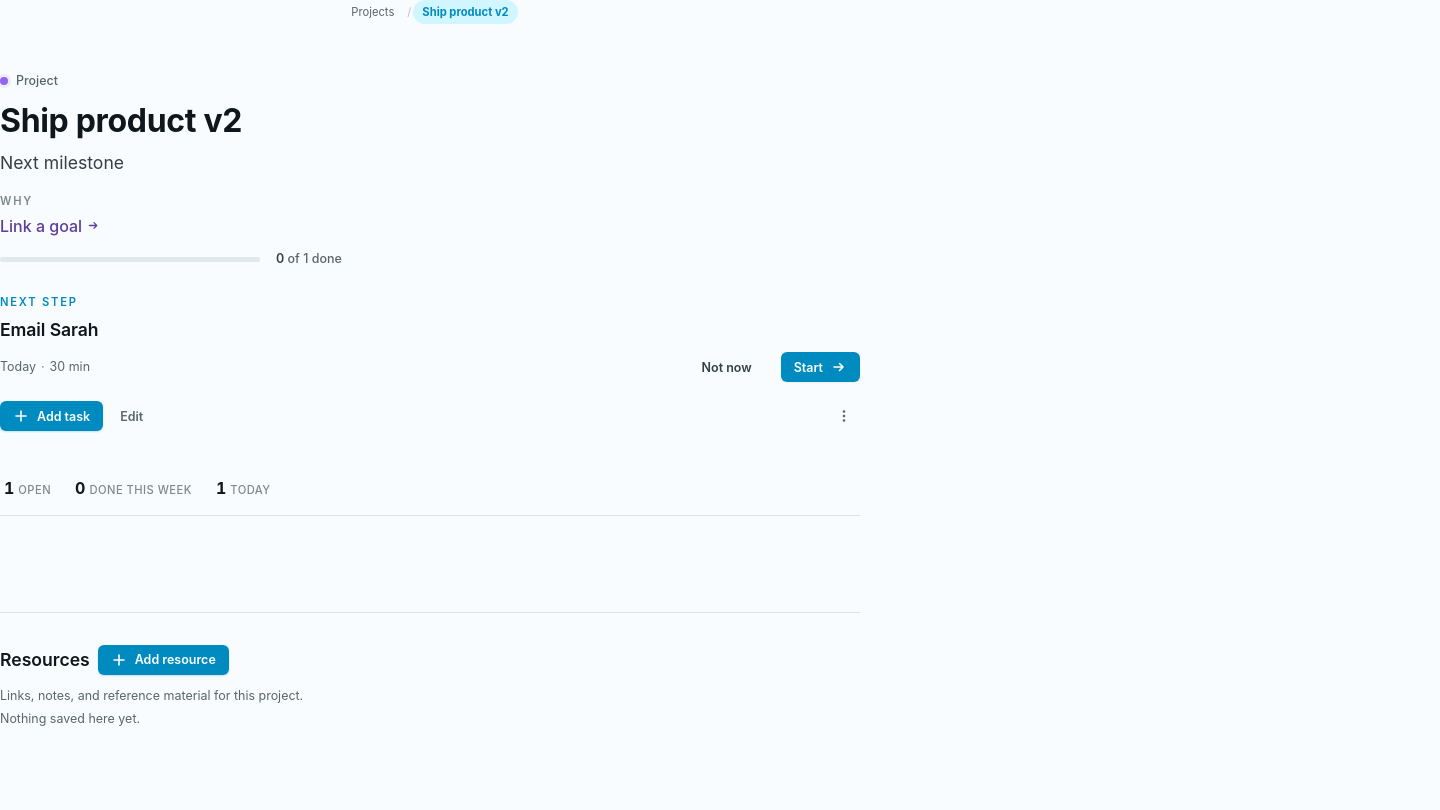
ProjectDetailPage — lifecycle management › asks for confirmation before completing a project
Click the button named "Project actions".
click(844, 416)  # box [828,400,860,432]
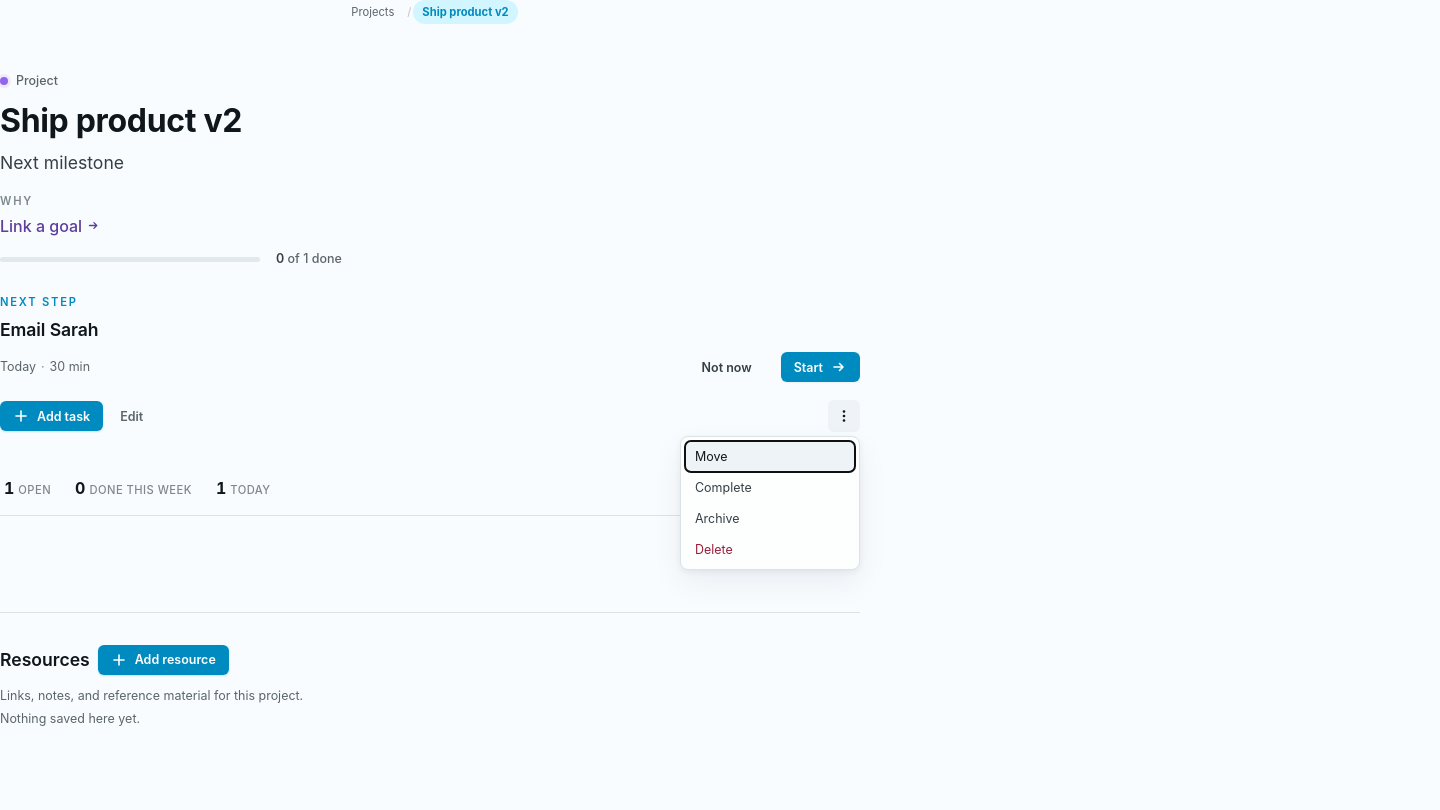
Click the menu item "Complete".
click(770, 488)  # box [685,472,855,503]
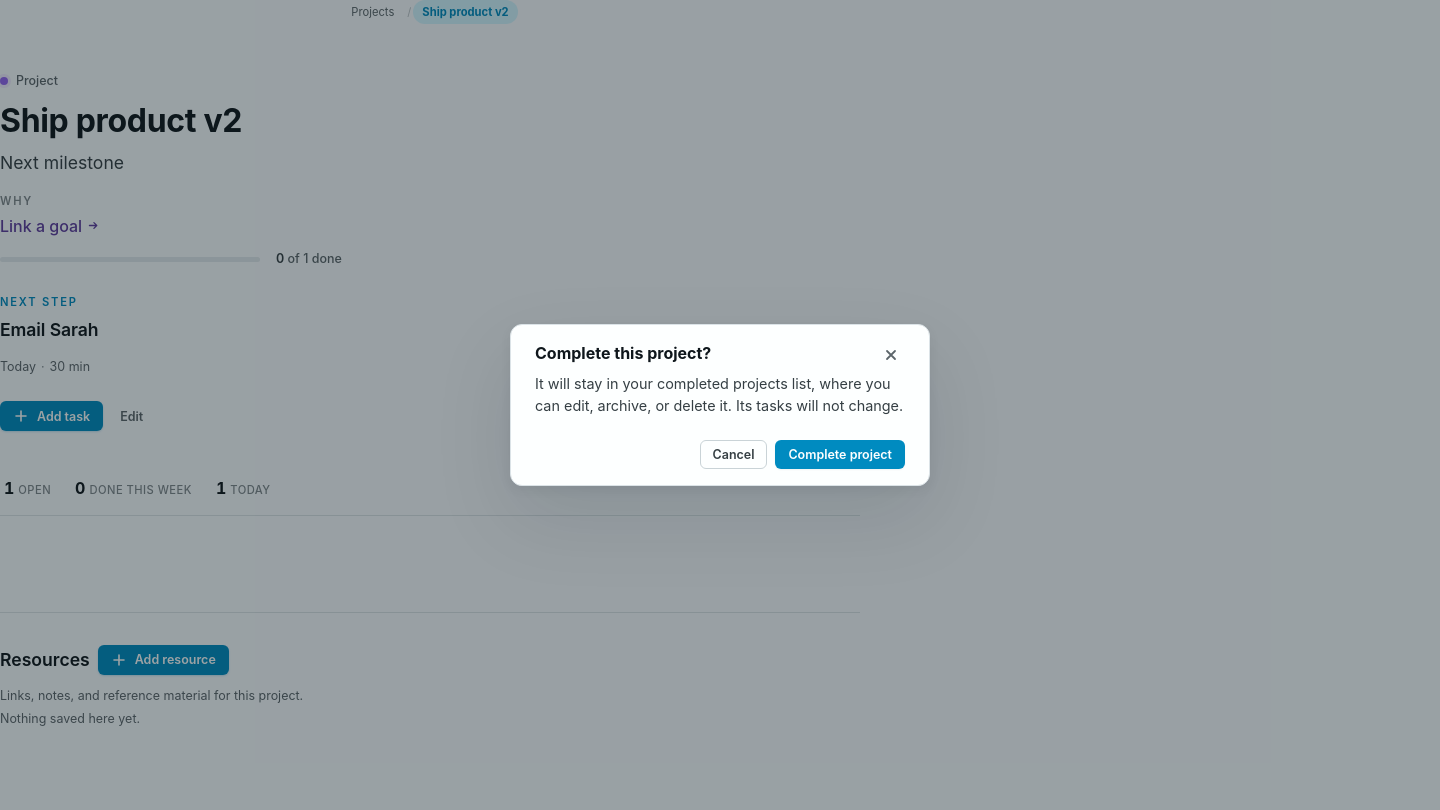
Expected: the dialog "Complete this project" is shown
